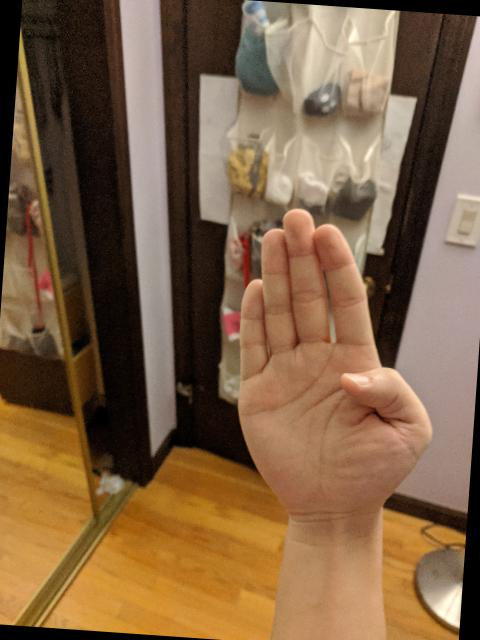B: (218, 198, 453, 528)
